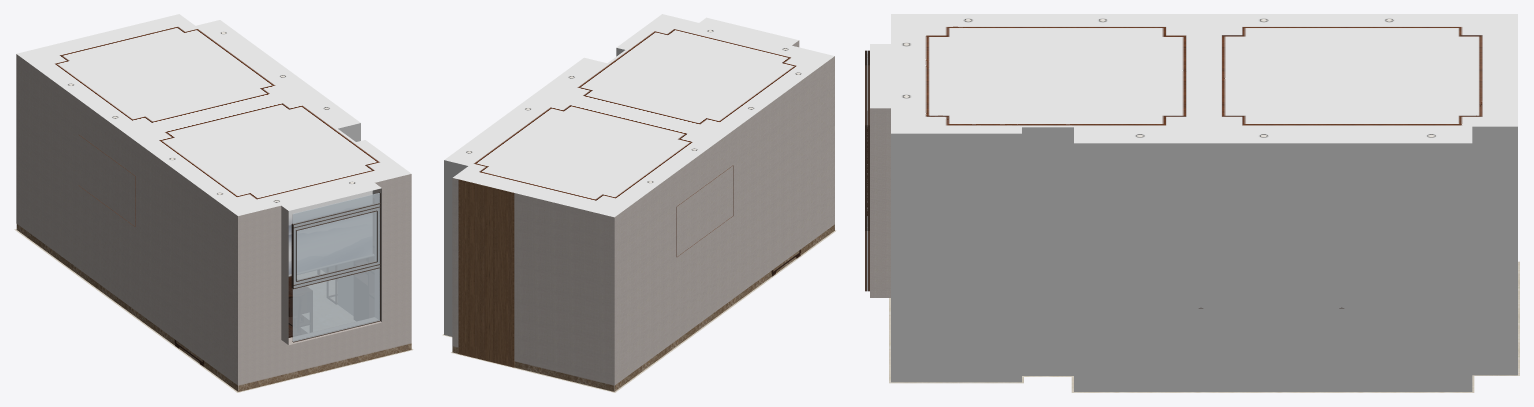
Rendered from ZhongYiMenZhen.fbx.
3 renders of one model, left to right at view 1: azimuth 30°, elevation 25°; view 2: azimuth 150°, elevation 25°; view 3: azimuth 270°, elevation 25°, orthographic. The views are drawn at different scales.
Visible parts, largest first — view 1: zhongyimenzhen09, zhongyimenzhen01, zhongyimenzhen03, boli, zhongyimenzhen04, chuangkuang, dimian, zhongyimenzhen07, zhongyimenzhen06, zhongyimenzhen02; view 2: zhongyimenzhen01, zhongyimenzhen09, zhongyimenzhen02, dimian; view 3: zhongyimenzhen02, zhongyimenzhen09, zhongyimenzhen03, dimian, chuangkuang.
Part boxes in pixels (box(x1,y1,x2,y2)): zhongyimenzhen09: box(16, 14, 411, 215); zhongyimenzhen01: box(16, 54, 237, 391); zhongyimenzhen03: box(238, 174, 411, 391); boli: box(292, 193, 379, 341); zhongyimenzhen04: box(288, 190, 373, 276); chuangkuang: box(291, 192, 380, 342); dimian: box(14, 229, 413, 392); zhongyimenzhen07: box(354, 198, 373, 320); zhongyimenzhen06: box(174, 276, 312, 366); zhongyimenzhen02: box(322, 123, 374, 314); zhongyimenzhen01: box(452, 56, 834, 391); zhongyimenzhen09: box(444, 14, 834, 217); zhongyimenzhen02: box(444, 48, 624, 352); dimian: box(442, 230, 836, 392); zhongyimenzhen02: box(891, 126, 1517, 391); zhongyimenzhen09: box(870, 14, 1517, 143); zhongyimenzhen03: box(870, 108, 890, 297); dimian: box(889, 261, 1519, 392); chuangkuang: box(865, 50, 869, 291).
Bounding box in the file's own units: 3.06 × 2.73 × 6.45.
